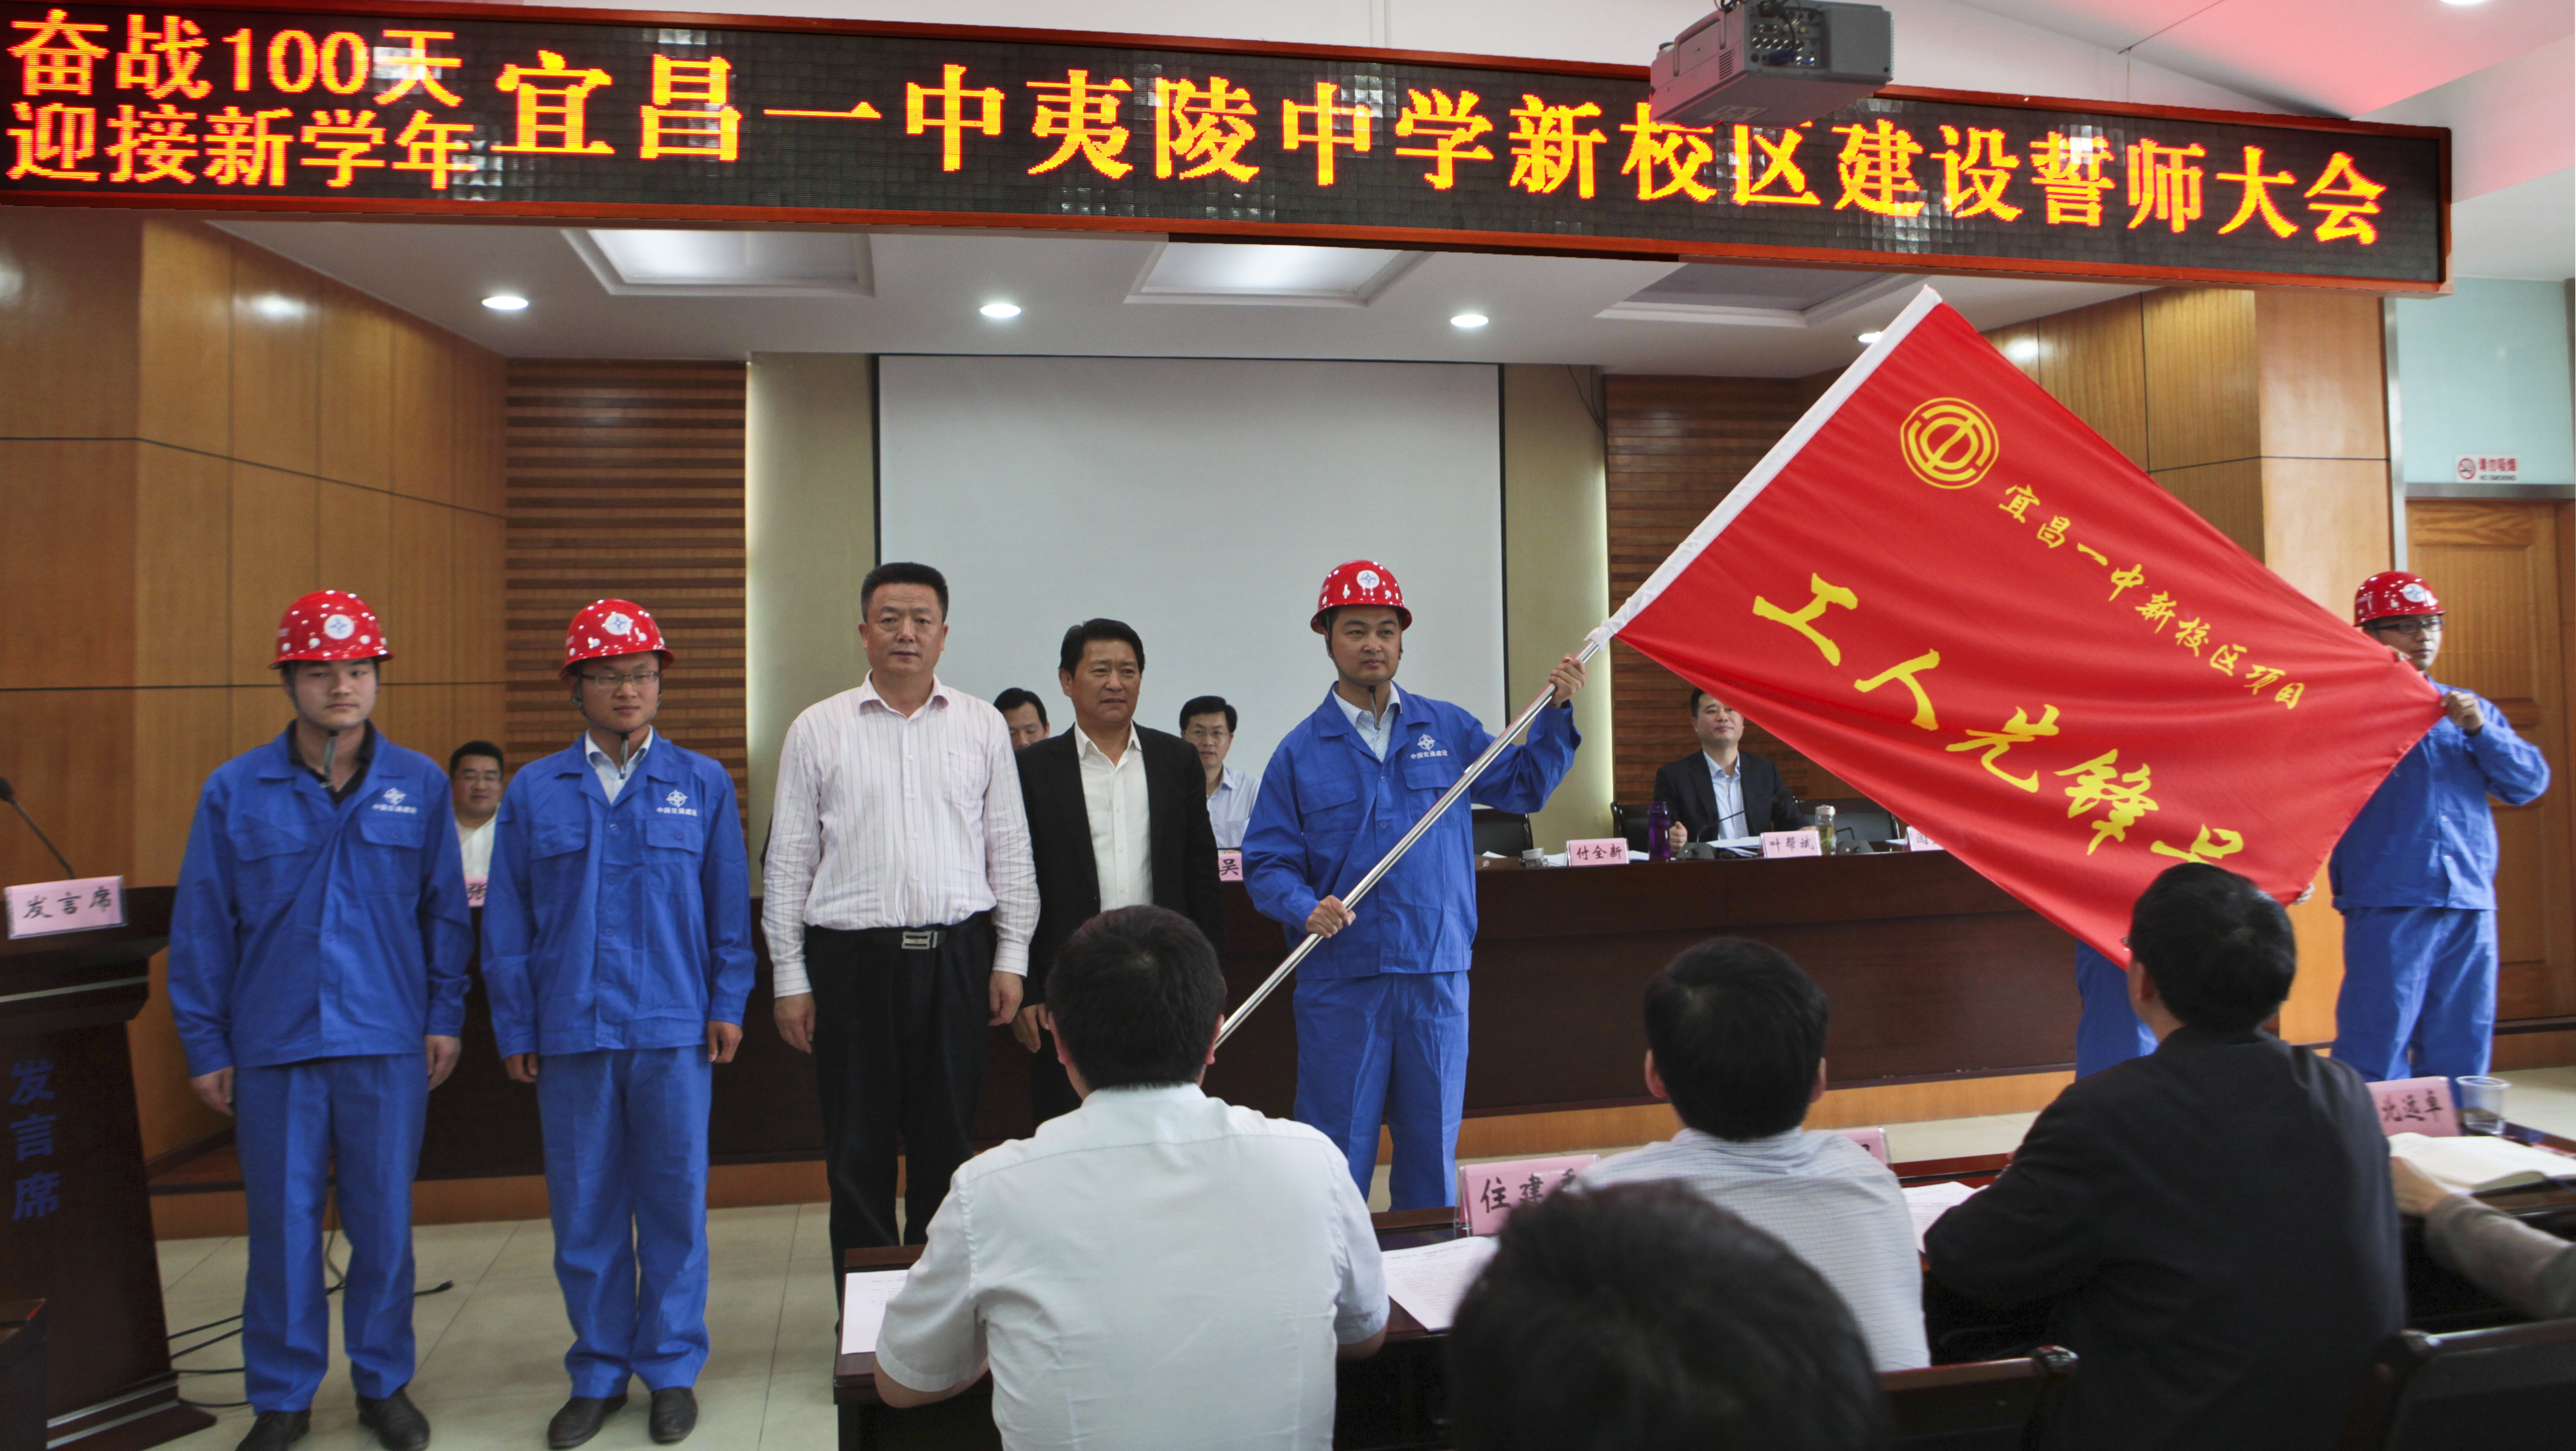none: (1026, 888, 1249, 1124), (1637, 934, 1840, 1161), (2111, 858, 2316, 1058), (844, 554, 962, 711), (1051, 607, 1146, 736), (1168, 690, 1251, 777), (984, 676, 1056, 759), (442, 736, 510, 825), (1684, 683, 1744, 749)
red: (267, 582, 400, 752), (554, 591, 678, 749), (1299, 550, 1417, 690), (2348, 563, 2452, 685)
